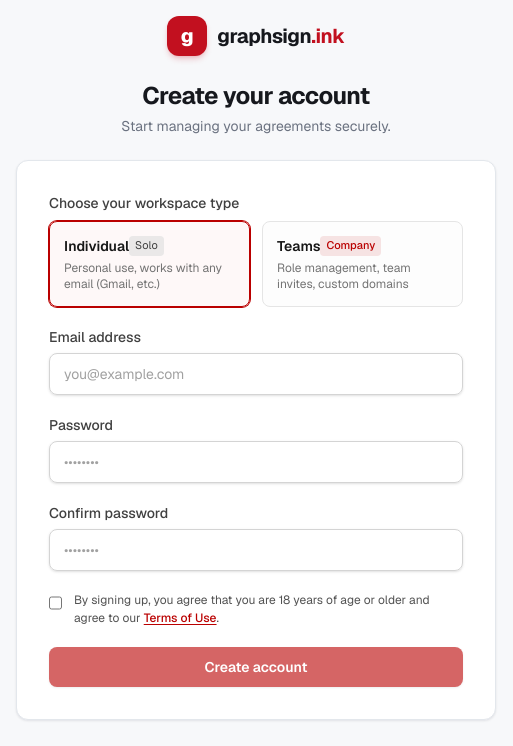
Test case: RegisterPage Component Tests (INK-304) › enables submit button only after checking the 18+ terms checkbox
This screenshot has width=513, height=746.
Expected: the button with test id "register-button" is disabled, x1=49 y1=647 x2=463 y2=687
Click the checkbox with test id "terms-checkbox". click: (56, 603)
box: x1=49 y1=595 x2=62 y2=611
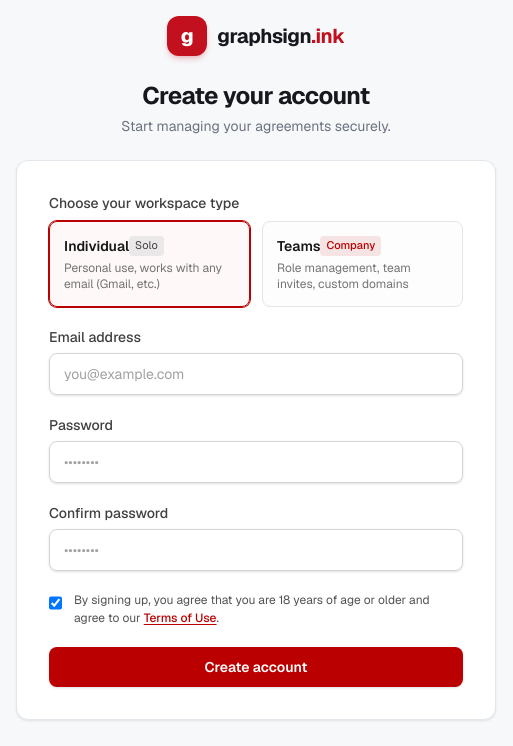
Now the checkbox with test id "terms-checkbox" is checked
Now the button with test id "register-button" is enabled, box x1=49 y1=647 x2=463 y2=687
Click the checkbox with test id "terms-checkbox". click: (56, 603)
box: x1=49 y1=595 x2=62 y2=611
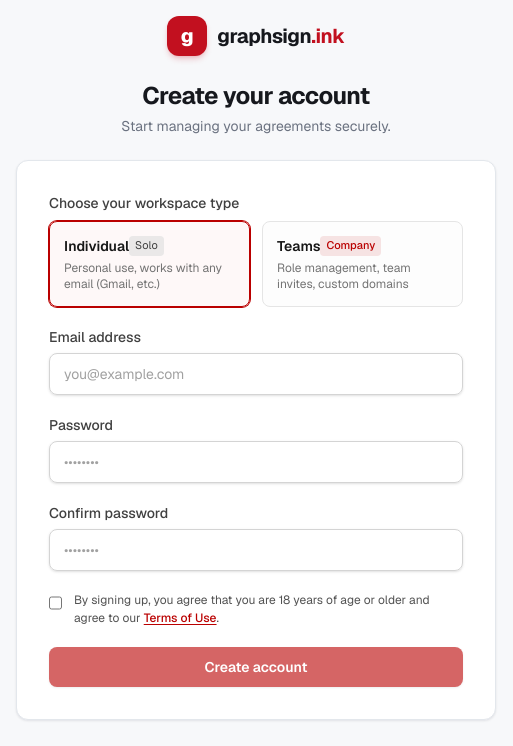
Now the checkbox with test id "terms-checkbox" is not checked, box x1=49 y1=595 x2=62 y2=611
Now the button with test id "register-button" is disabled, box x1=49 y1=647 x2=463 y2=687
